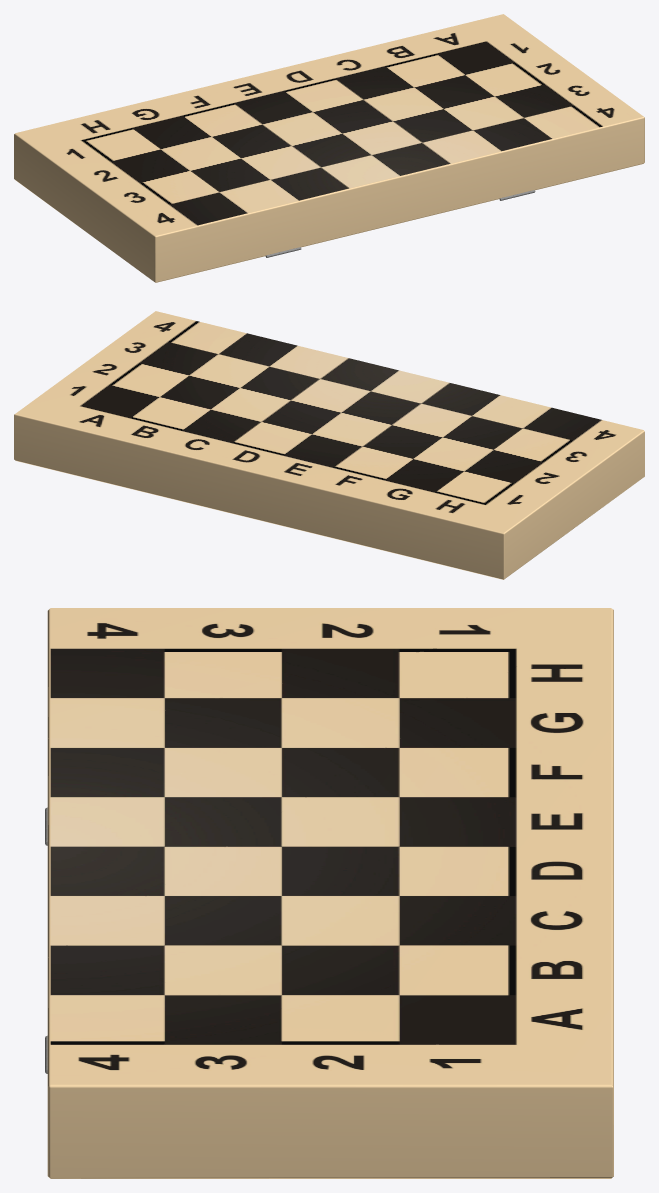
The model's file is Chesspad_01.fbx.
The picture shows the model from 3 angles, top to bottom: view 1: azimuth 30°, elevation 25°; view 2: azimuth 150°, elevation 25°; view 3: azimuth 270°, elevation 25°; orthographic projection. The views are drawn at different scales.
Parts seen in each view (by area): view 1: Chesspad_01; view 2: Chesspad_01; view 3: Chesspad_01.
Boxes of the visible parts, <box> form: Chesspad_01: <box>14,14,644,282</box>; Chesspad_01: <box>14,311,644,579</box>; Chesspad_01: <box>45,608,613,1178</box>.
Bounding box in the file's own units: 48.13 × 4.56 × 24.18.
